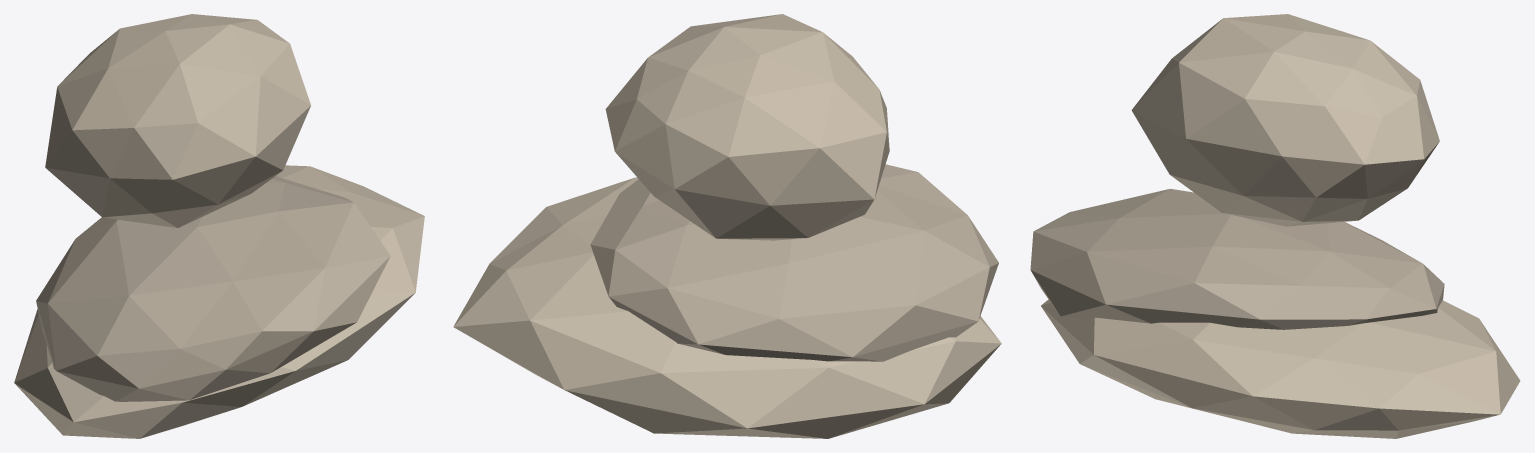
File: campo_rock_slate_1.glb
3 views of the same model, side by side, from view 1: azimuth 30°, elevation 25°; view 2: azimuth 150°, elevation 25°; view 3: azimuth 270°, elevation 25° (orthographic). The views are drawn at different scales.
Visible parts, largest first — view 1: campo_rock_slate_1.glb; view 2: campo_rock_slate_1.glb; view 3: campo_rock_slate_1.glb.
Part boxes in pixels (left/top/right/bottom): campo_rock_slate_1.glb: left=14, top=14, right=424, bottom=438; campo_rock_slate_1.glb: left=453, top=14, right=1001, bottom=438; campo_rock_slate_1.glb: left=1030, top=14, right=1520, bottom=438.
Bounding box in the file's own units: 1.77 × 1.52 × 1.75.
